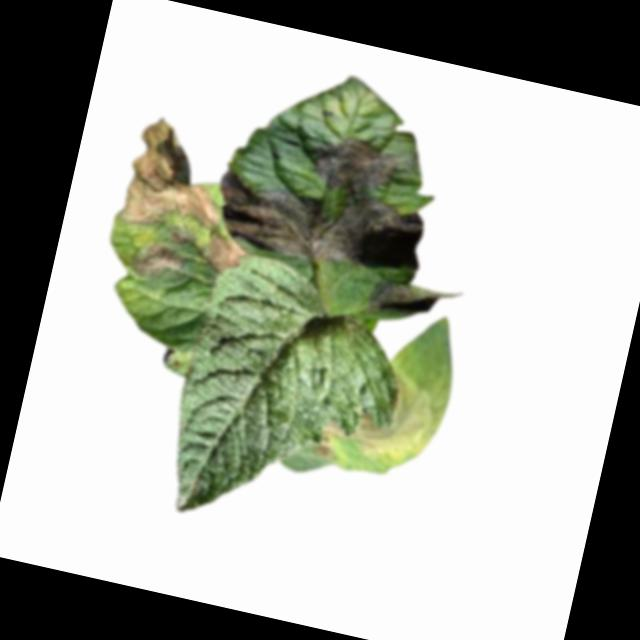Late_blight: (206, 111, 443, 284), (112, 110, 239, 242), (317, 356, 442, 467), (363, 273, 457, 332), (196, 226, 251, 276), (127, 239, 184, 285), (310, 441, 339, 462)
healthy: (157, 245, 422, 551)
